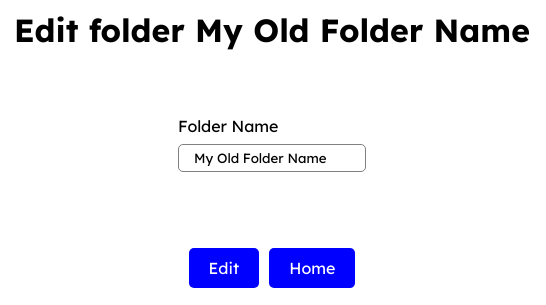
Test: EditFolder › should disable input and submit button and update button text when loading is true
In the field labelled "Folder Name": (272, 158) [178,144,366,172], type "Test Folder"
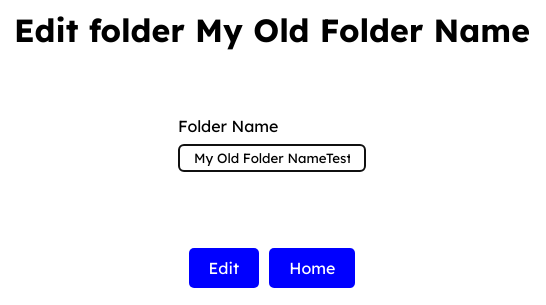
Click the button "Edit": (224, 268) [189,248,259,288]
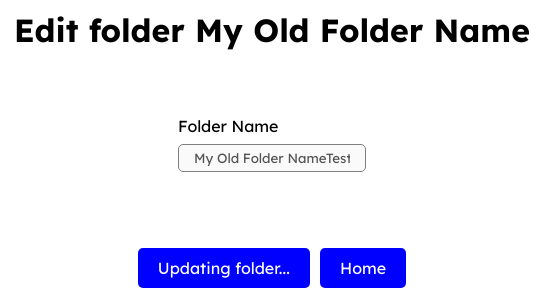
Check: the button named "Edit" is disabled, box [138,248,310,288]
Check: the button named "Edit" reads "Updating folder...", box [138,248,310,288]
Check: the field labelled "Folder Name" is disabled, box [178,144,366,172]
